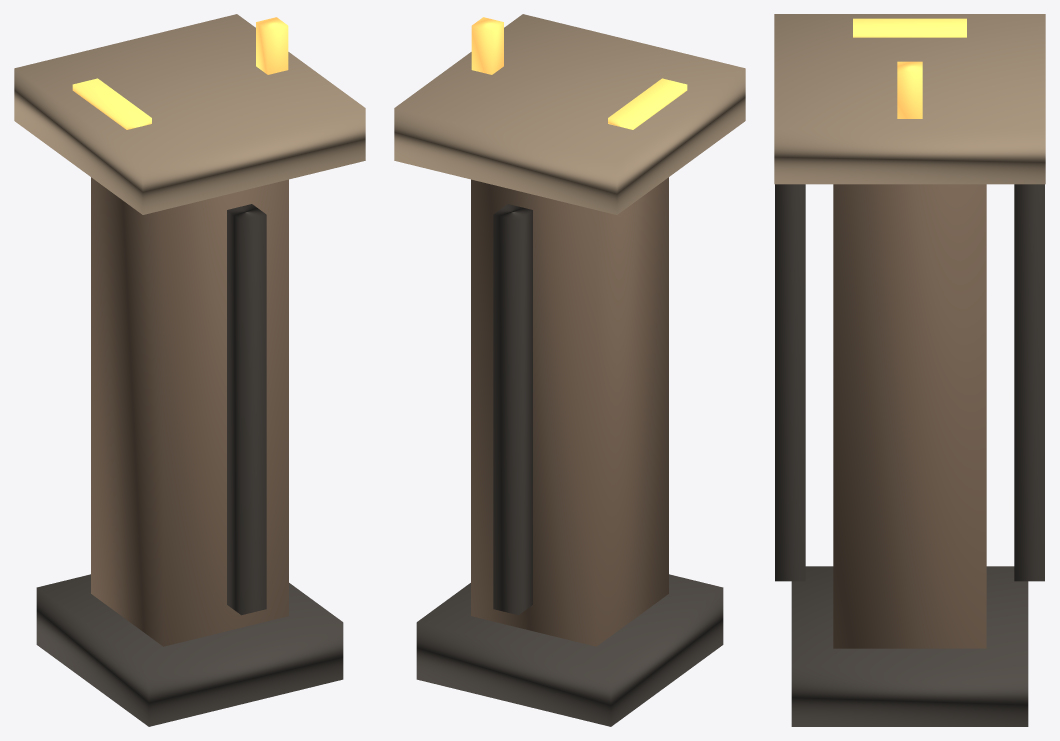
File: jovian-harvester-skimmer-tower-lod1.glb
The picture shows the model from 3 angles, left to right: view 1: azimuth 30°, elevation 25°; view 2: azimuth 150°, elevation 25°; view 3: azimuth 270°, elevation 25°; orthographic projection. The views are drawn at different scales.
Parts seen in each view (by area): view 1: jovian-harvester-skimmer-tower-spine, jovian-harvester-skimmer-tower-crown, jovian-harvester-skimmer-tower-foot, jovian-harvester-skimmer-tower-lattice-right, jovian-harvester-skimmer-tower-crown-light, jovian-harvester-skimmer-tower-beacon; view 2: jovian-harvester-skimmer-tower-spine, jovian-harvester-skimmer-tower-crown, jovian-harvester-skimmer-tower-foot, jovian-harvester-skimmer-tower-lattice-left, jovian-harvester-skimmer-tower-crown-light, jovian-harvester-skimmer-tower-beacon; view 3: jovian-harvester-skimmer-tower-spine, jovian-harvester-skimmer-tower-crown, jovian-harvester-skimmer-tower-foot, jovian-harvester-skimmer-tower-lattice-left, jovian-harvester-skimmer-tower-lattice-right, jovian-harvester-skimmer-tower-crown-light, jovian-harvester-skimmer-tower-beacon.
Part boxes in pixels (box(x1,y1,x2,y2)): jovian-harvester-skimmer-tower-spine: box(91, 177, 288, 646); jovian-harvester-skimmer-tower-crown: box(14, 14, 365, 214); jovian-harvester-skimmer-tower-foot: box(36, 574, 343, 726); jovian-harvester-skimmer-tower-lattice-right: box(227, 204, 266, 615); jovian-harvester-skimmer-tower-crown-light: box(72, 78, 151, 129); jovian-harvester-skimmer-tower-beacon: box(256, 17, 288, 74); jovian-harvester-skimmer-tower-spine: box(471, 177, 668, 646); jovian-harvester-skimmer-tower-crown: box(394, 14, 745, 214); jovian-harvester-skimmer-tower-foot: box(416, 574, 723, 726); jovian-harvester-skimmer-tower-lattice-left: box(493, 204, 532, 615); jovian-harvester-skimmer-tower-crown-light: box(608, 78, 687, 129); jovian-harvester-skimmer-tower-beacon: box(471, 17, 503, 74); jovian-harvester-skimmer-tower-spine: box(833, 184, 986, 648); jovian-harvester-skimmer-tower-crown: box(774, 14, 1045, 184); jovian-harvester-skimmer-tower-foot: box(791, 566, 1028, 726); jovian-harvester-skimmer-tower-lattice-left: box(1014, 184, 1044, 581); jovian-harvester-skimmer-tower-lattice-right: box(775, 184, 805, 581); jovian-harvester-skimmer-tower-crown-light: box(853, 18, 966, 37); jovian-harvester-skimmer-tower-beacon: box(897, 61, 922, 118).
Size of the model in its own units: 1.95 by 5.17 by 1.95.
